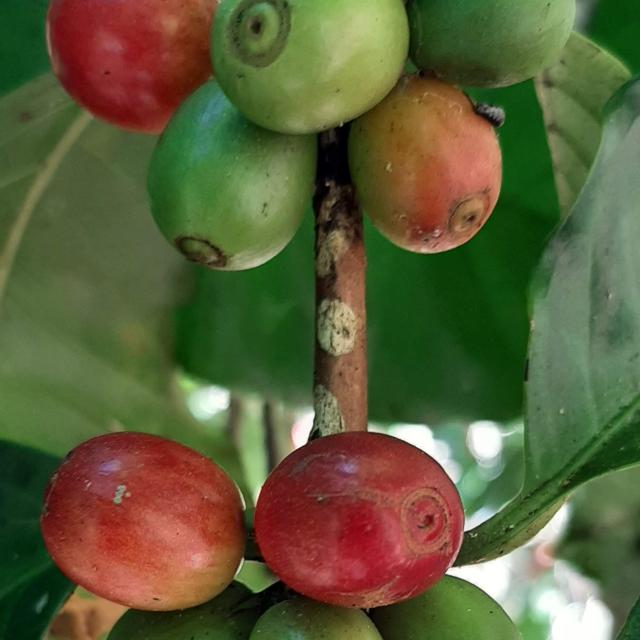green: (147, 79, 317, 271), (210, 0, 409, 134), (407, 0, 576, 87), (372, 576, 522, 640), (107, 583, 264, 640), (249, 598, 383, 640)
red: (255, 432, 465, 609), (45, 0, 217, 134)
yellow: (40, 433, 245, 612), (349, 74, 502, 253)
